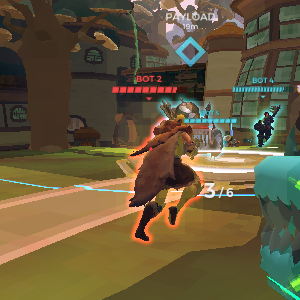model: (121, 106, 204, 252)
